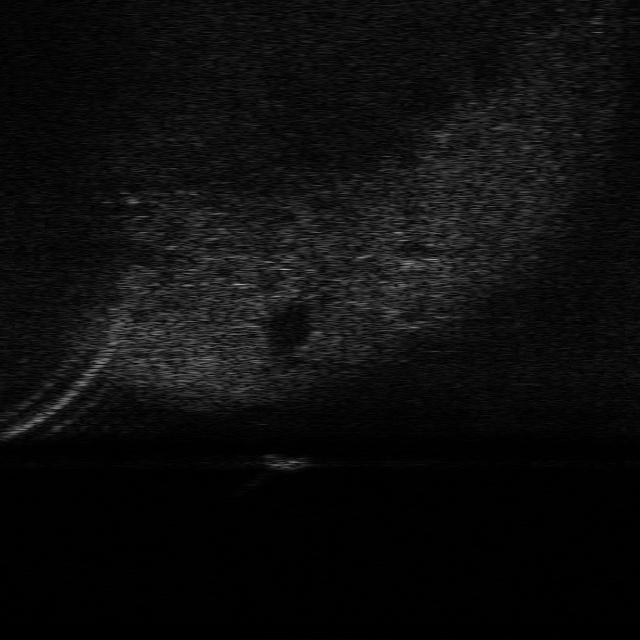cube: (262, 453, 316, 472)
